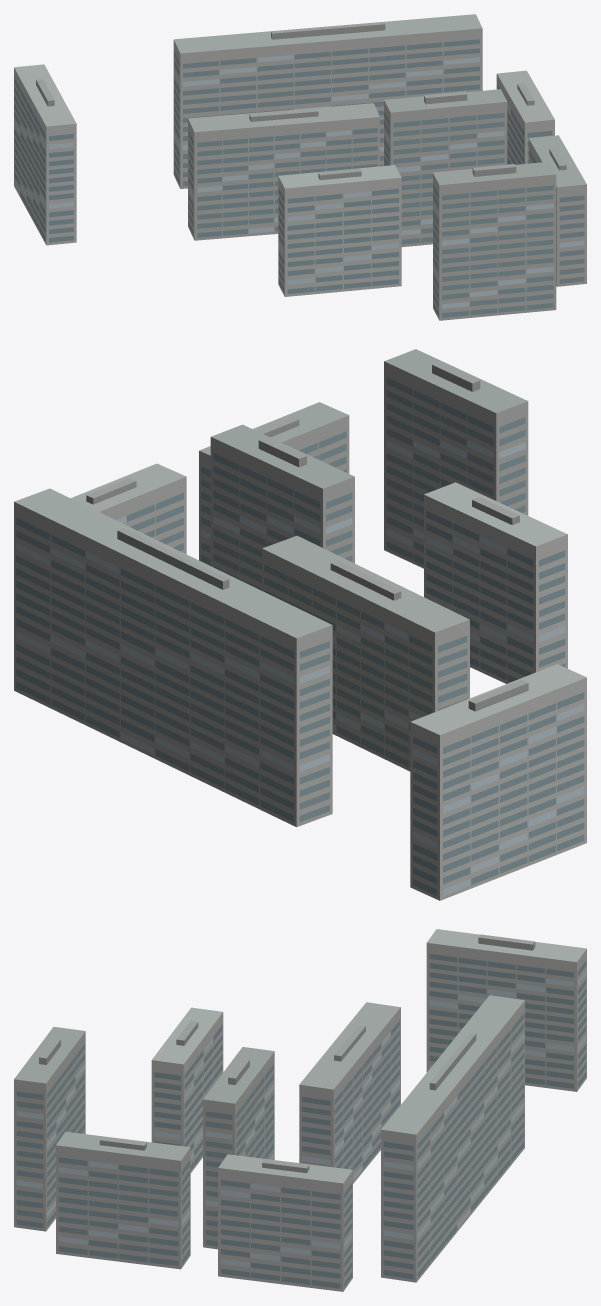
Rendered from apt-a14386110.glb.
3 views of the same model, one above another, from view 1: azimuth 30°, elevation 25°; view 2: azimuth 150°, elevation 25°; view 3: azimuth 270°, elevation 25° (orthographic). The views are drawn at different scales.
Visible parts, largest first — view 1: apt-a14386110; view 2: apt-a14386110; view 3: apt-a14386110.
Part boxes in pixels (x1=…): apt-a14386110: x1=14, y1=14, x2=586, y2=320; apt-a14386110: x1=14, y1=349, x2=586, y2=900; apt-a14386110: x1=14, y1=929, x2=586, y2=1291.
Size of the model in its own units: 155 by 47.81 by 161.
